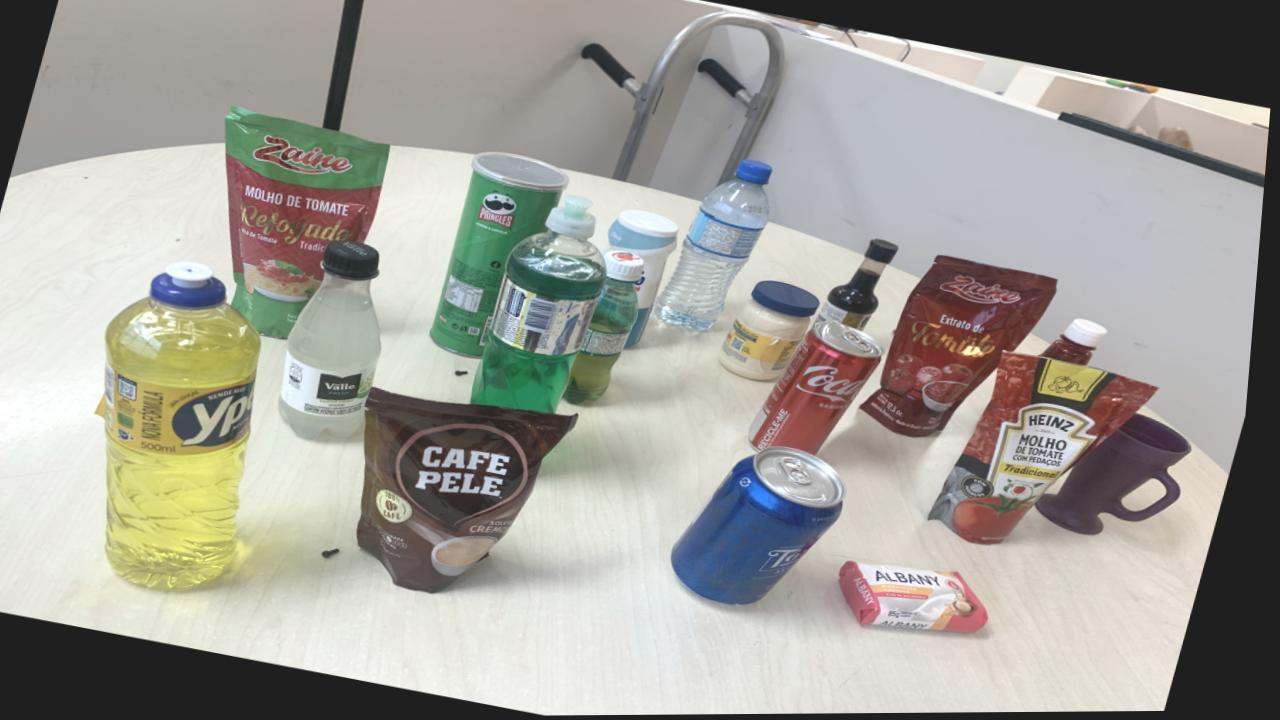Cleaner-Cleanup_Items: (610, 210, 682, 347)
Coffee-Pantry_Items: (365, 389, 584, 594)
Coke-Drinks: (755, 322, 888, 455)
Detergent-Cleanup_Items: (110, 262, 267, 589), (477, 196, 611, 414)
English_Sauce-Pantry_Items: (821, 240, 901, 330)
Guarana-Drinks: (570, 250, 649, 404)
Ketchup-Pantry_Items: (1047, 320, 1113, 367)
Mayonnaise-Pantry_Items: (725, 281, 824, 382)
Pringles-Snacks: (435, 152, 571, 358)
Soda-Drinks: (284, 240, 387, 439)
Tomato_Sauce-Pantry_Items: (937, 352, 1163, 546), (226, 106, 392, 339), (868, 256, 1061, 438)
Tonic-Drinks: (680, 446, 853, 605)
Water_Bottle-Drinks: (661, 160, 775, 331)
